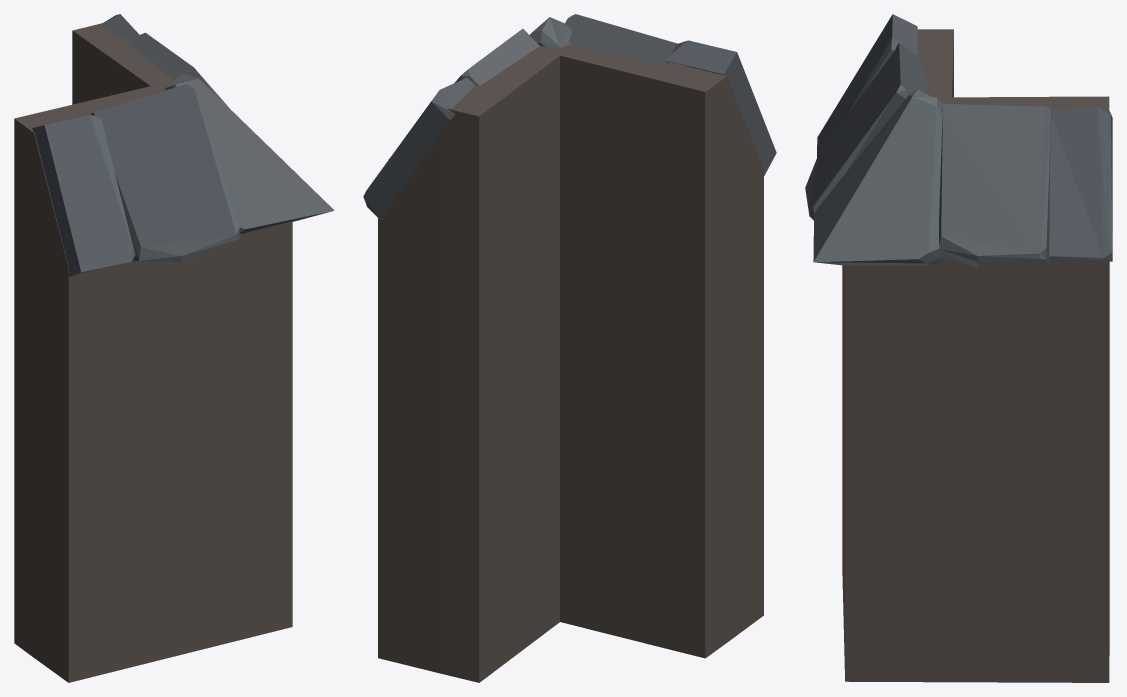
Rendered from MCastle_SquareCorner.FBX.
3 views of the same model, side by side, from view 1: azimuth 30°, elevation 25°; view 2: azimuth 150°, elevation 25°; view 3: azimuth 270°, elevation 25° (orthographic). The views are drawn at different scales.
Parts seen in each view (by area): view 1: MCastle_SquareCorner_LOD0; view 2: MCastle_SquareCorner_LOD0; view 3: MCastle_SquareCorner_LOD0.
Part boxes in pixels (x1,y1,x2,y2): MCastle_SquareCorner_LOD0: [14, 14, 334, 682]; MCastle_SquareCorner_LOD0: [363, 14, 776, 682]; MCastle_SquareCorner_LOD0: [805, 14, 1112, 682].
Size of what is drawn, in the model's own units: 2.26 by 4.61 by 2.31.
